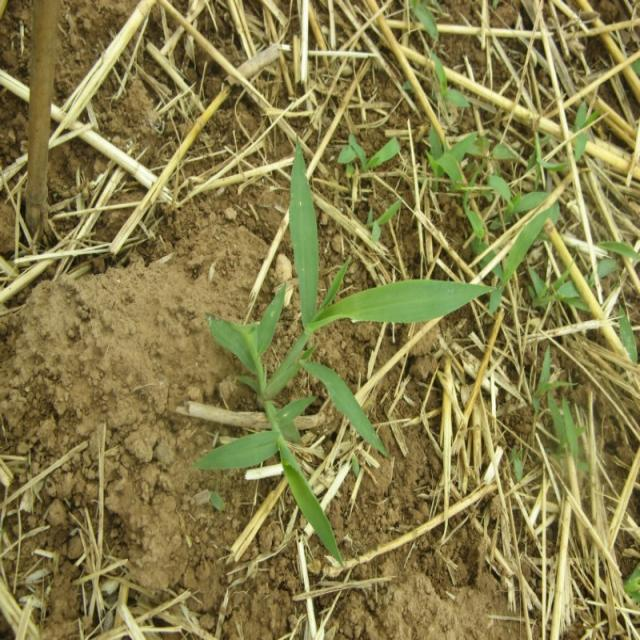bg: (201, 148, 496, 562)
